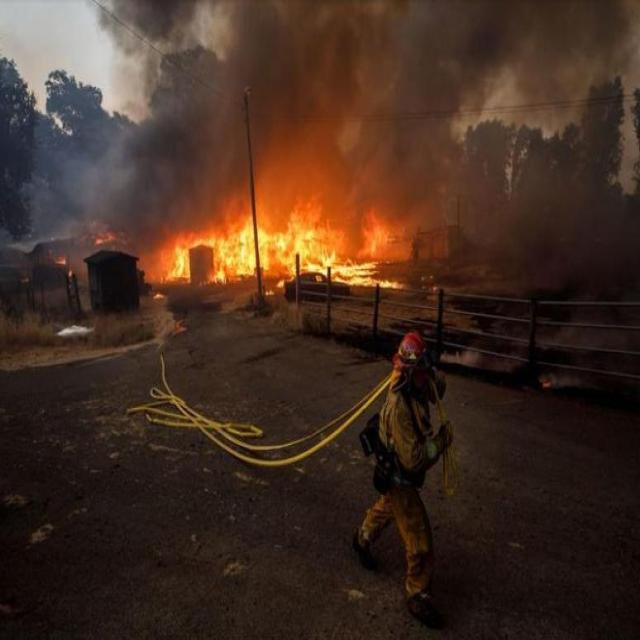Fire: (154, 198, 402, 296)
Smoke: (1, 2, 640, 286)
